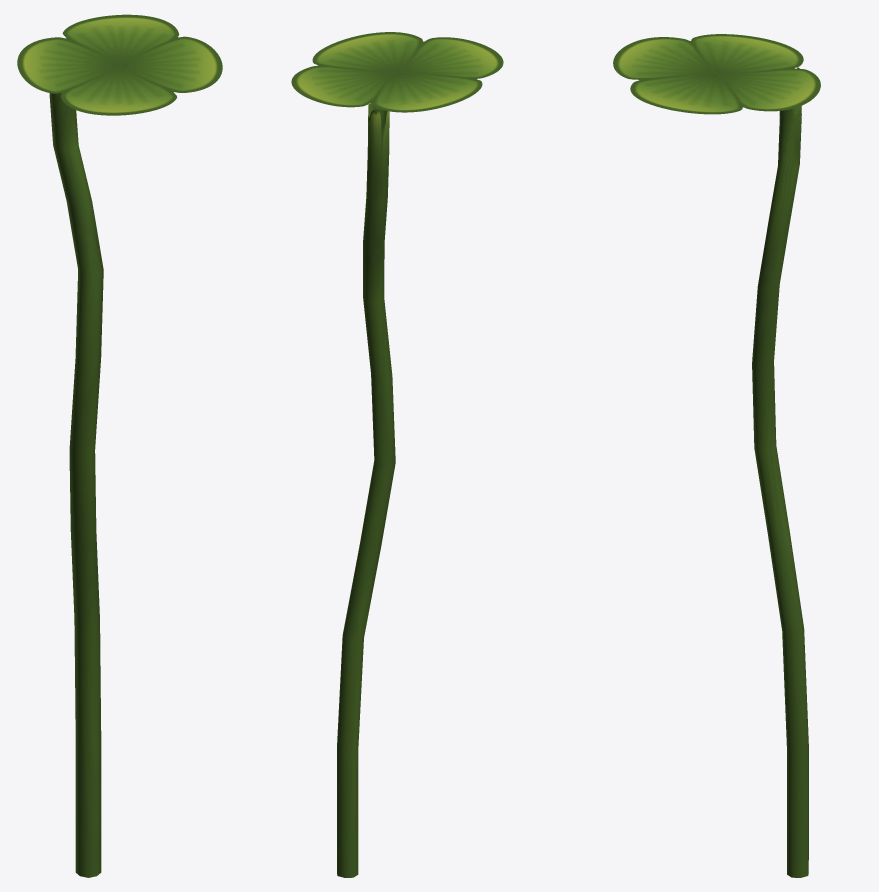
File: LillypadBob.fbx
3 views of the same model, side by side, from view 1: azimuth 30°, elevation 25°; view 2: azimuth 150°, elevation 25°; view 3: azimuth 270°, elevation 25° (orthographic). The views are drawn at different scales.
Visible parts, largest first — view 1: LillypadBase (1), RoofTile; view 2: LillypadBase (1), RoofTile; view 3: LillypadBase (1), RoofTile.
Part boxes in pixels (x1,y1,x2,y2): LillypadBase (1): (49, 93, 103, 877); RoofTile: (17, 14, 222, 115); LillypadBase (1): (337, 103, 395, 877); RoofTile: (291, 32, 503, 112); LillypadBase (1): (752, 67, 808, 877); RoofTile: (613, 34, 820, 114).
Bounding box in the file's own units: 0.7294 × 2.24 × 0.7553.
